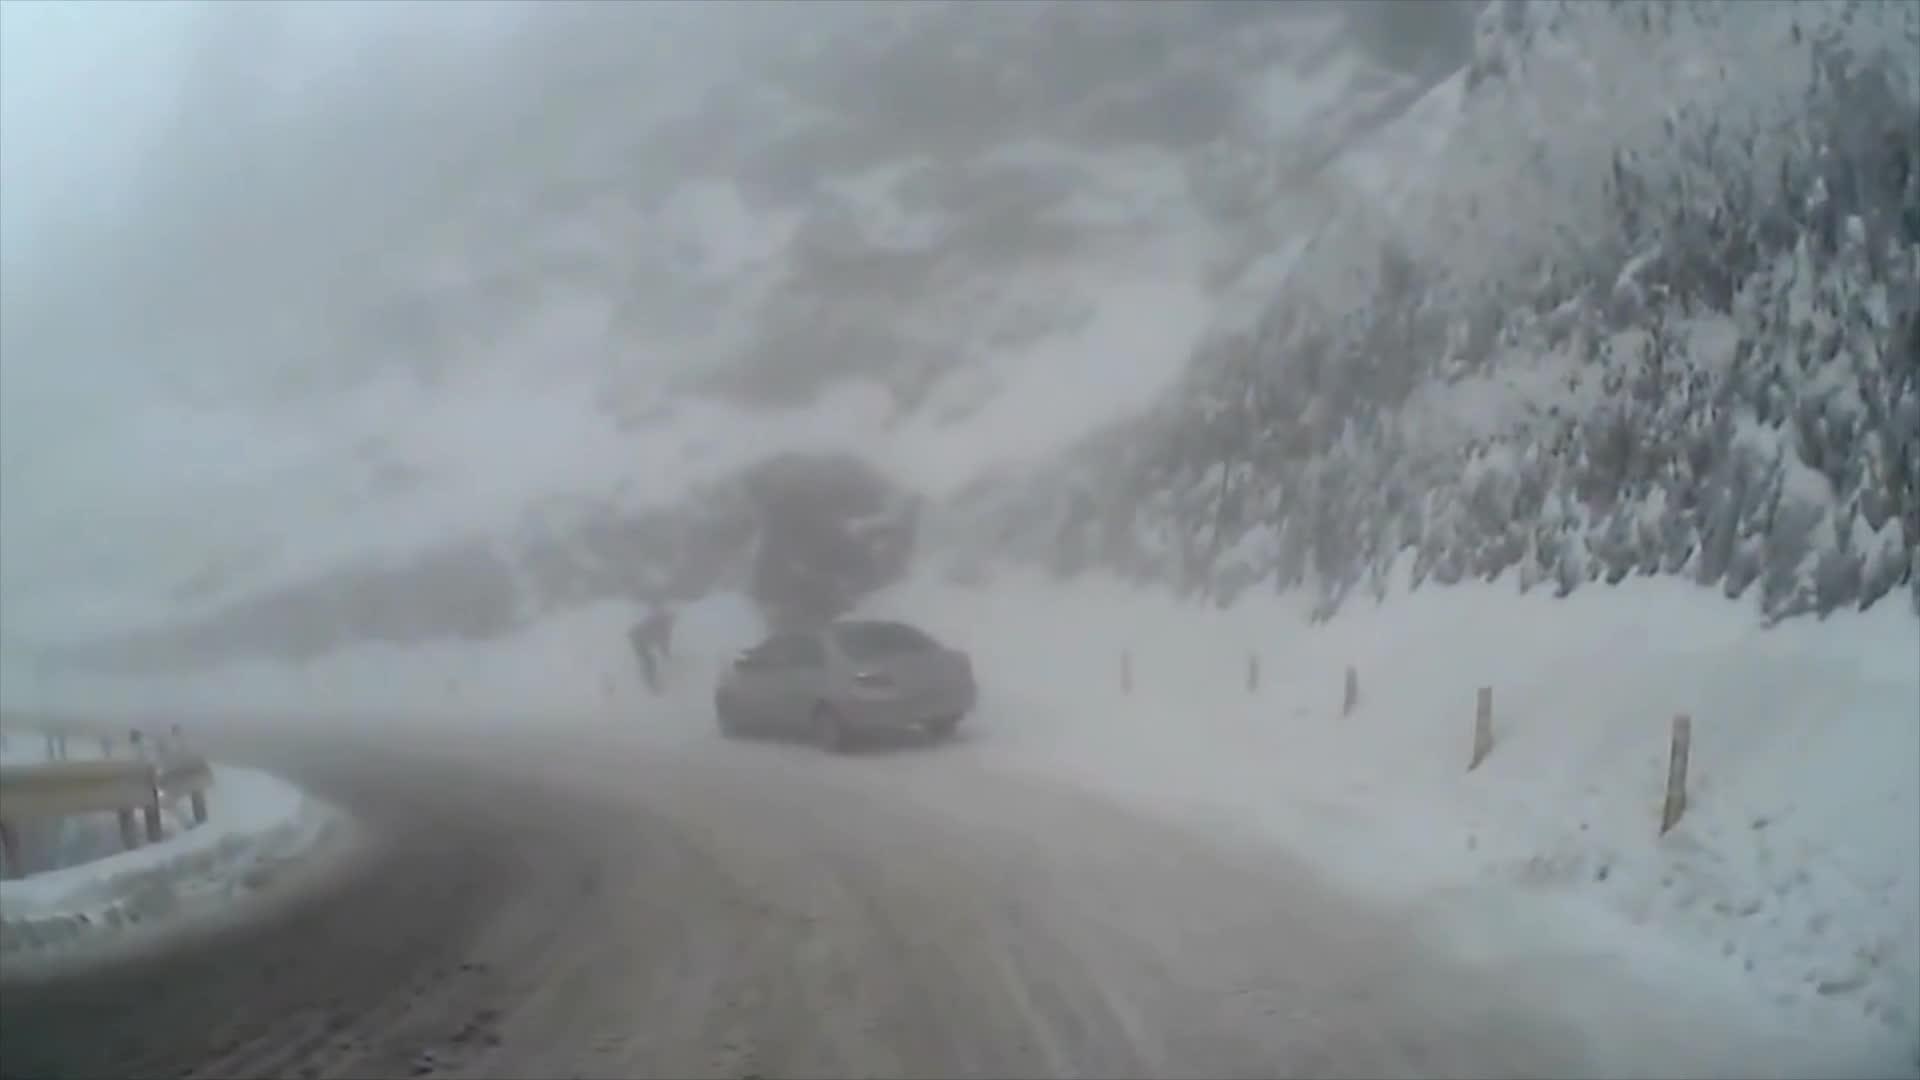pedestrian: (628, 610, 682, 693)
vehicle: (719, 616, 980, 747)
